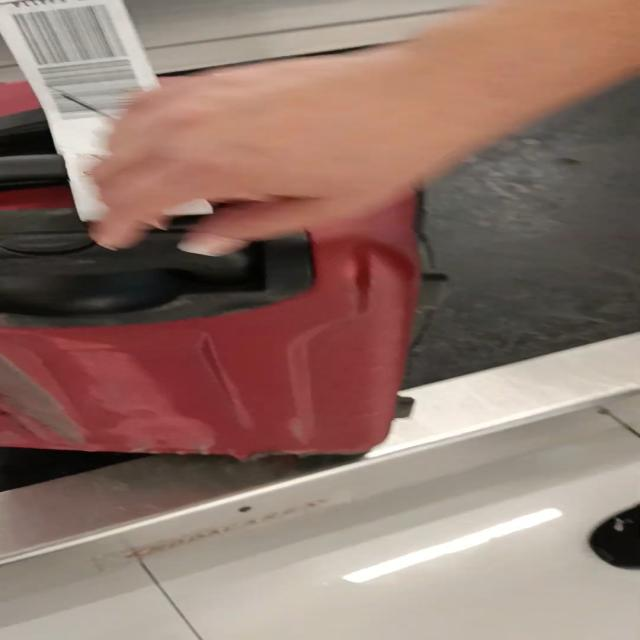Damage-bag: (0, 356, 84, 445)
